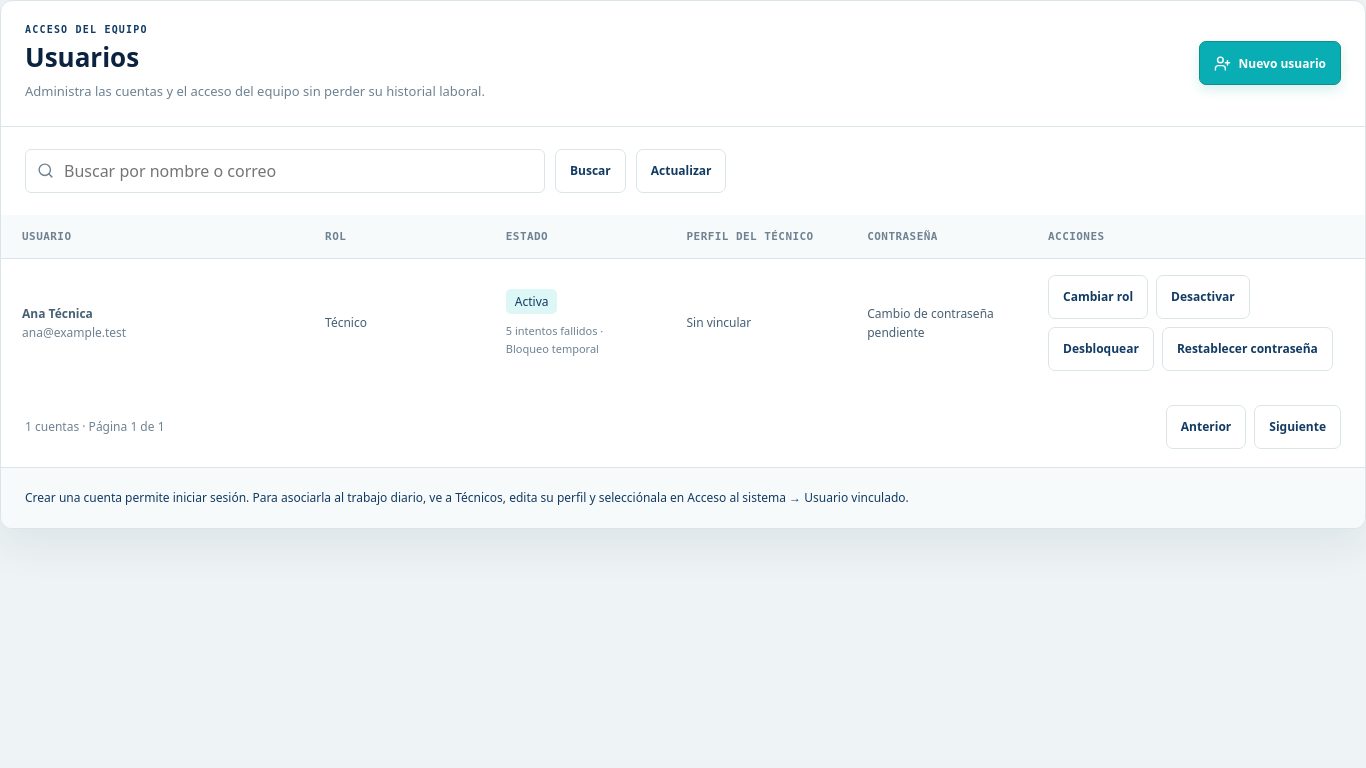
Test: usuarios en configuración › desbloquea una cuenta con intentos fallidos después de confirmar
The width and height of the screenshot is (1366, 768).
Click the button "Desbloquear". click: (1101, 349)
box: 1048,327 -> 1154,371
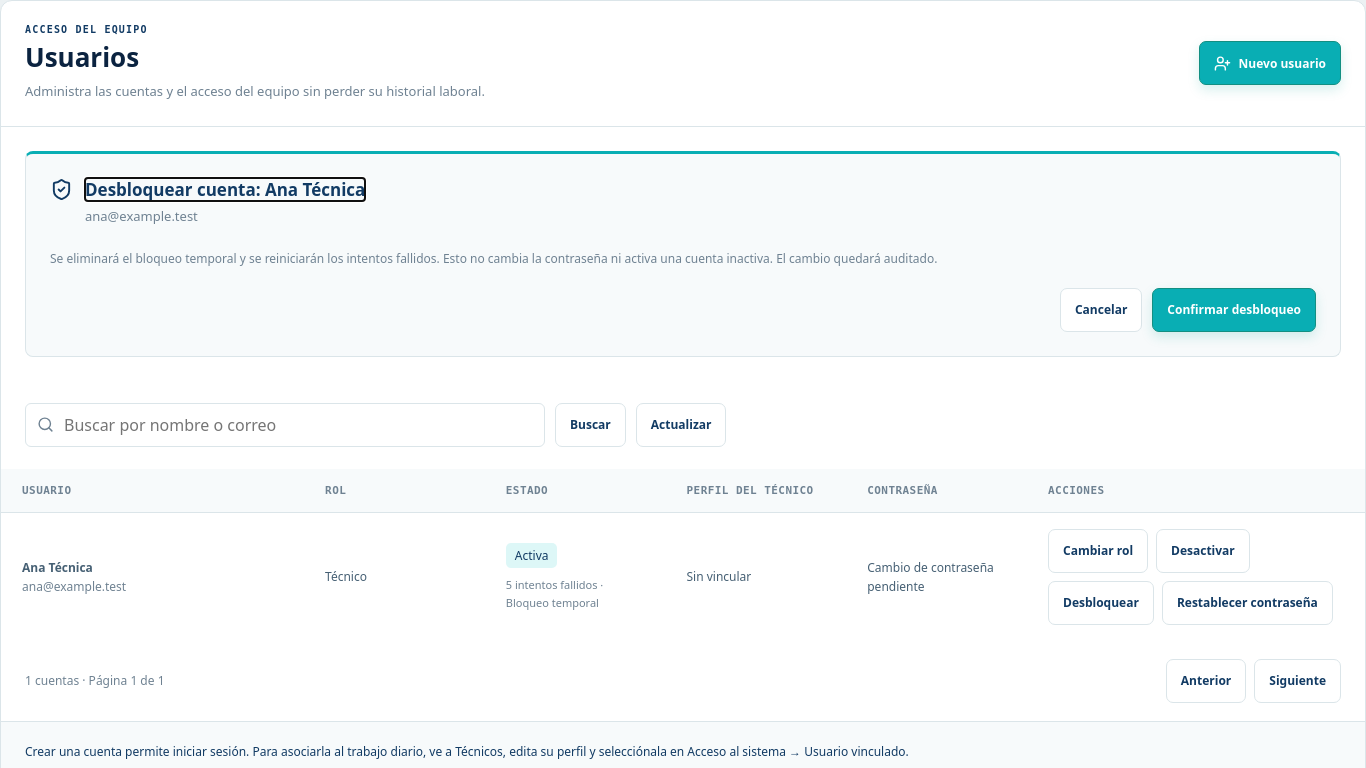
Click the button "Confirmar desbloqueo". click: (1234, 310)
box: 1152,288 -> 1316,332
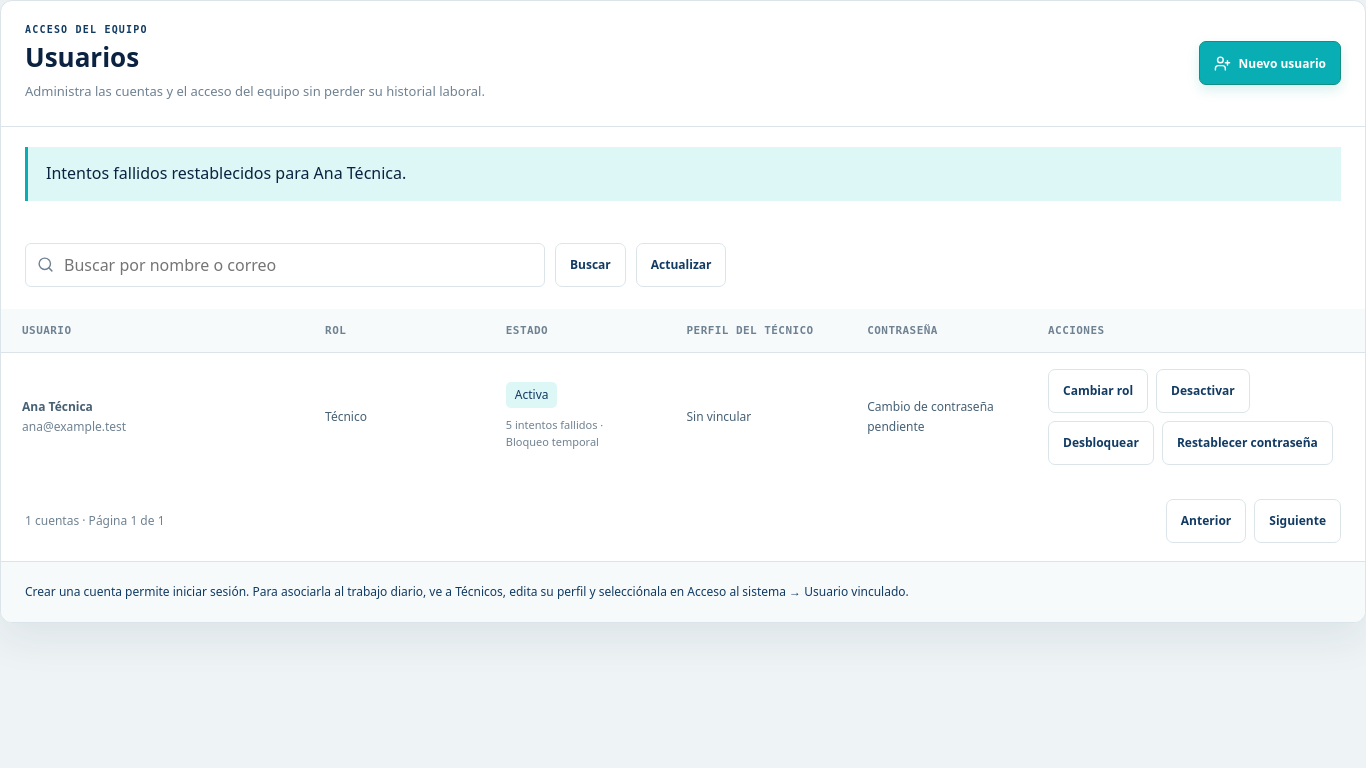
Result: the message shows "Intentos fallidos restablecidos" at 46,162 -> 406,184
